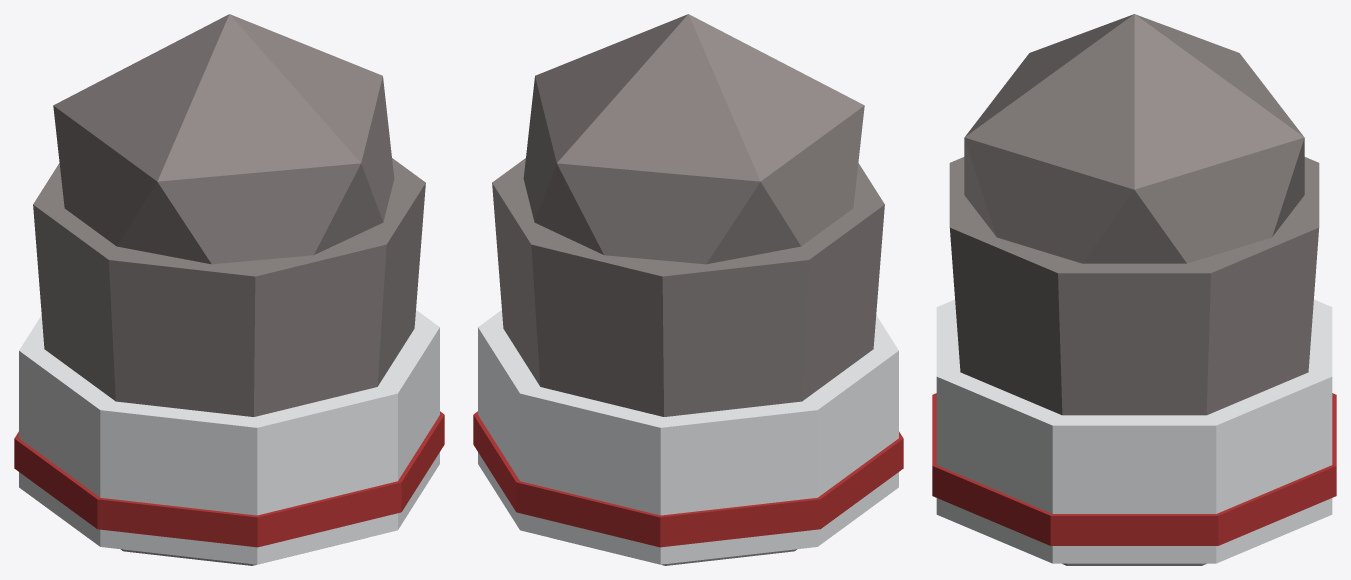
File: inf_walker_lower_arm.fbx
3 renders of one model, left to right at view 1: azimuth 30°, elevation 25°; view 2: azimuth 150°, elevation 25°; view 3: azimuth 270°, elevation 25°, orthographic.
Parts seen in each view (by area): view 1: inf_walker_lower_arm; view 2: inf_walker_lower_arm; view 3: inf_walker_lower_arm.
Boxes of the visible parts, x1,y1,x2,y2 form: inf_walker_lower_arm: [14, 14, 444, 565]; inf_walker_lower_arm: [473, 14, 903, 565]; inf_walker_lower_arm: [932, 14, 1336, 565].
Bounding box in the file's own units: 85 × 112 × 85.
